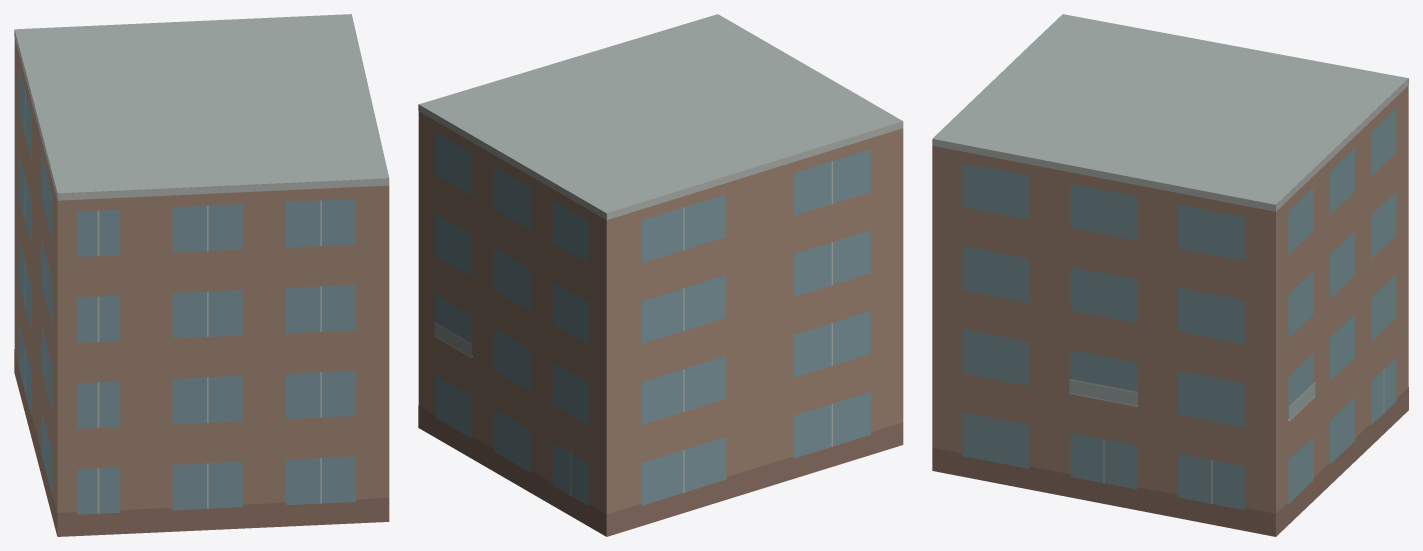
The model's file is survey-upis-32528287.glb.
3 renders of one model, left to right at view 1: azimuth 30°, elevation 25°; view 2: azimuth 150°, elevation 25°; view 3: azimuth 270°, elevation 25°, orthographic. The views are drawn at different scales.
Parts seen in each view (by area): view 1: survey-upis-32528287.tmp; view 2: survey-upis-32528287.tmp; view 3: survey-upis-32528287.tmp.
Part boxes in pixels (x1,y1,x2,y2): survey-upis-32528287.tmp: (14,14,389,536); survey-upis-32528287.tmp: (418,14,903,536); survey-upis-32528287.tmp: (932,14,1408,536).
Bounding box in the file's own units: 14.31 × 11.6 × 15.1.
